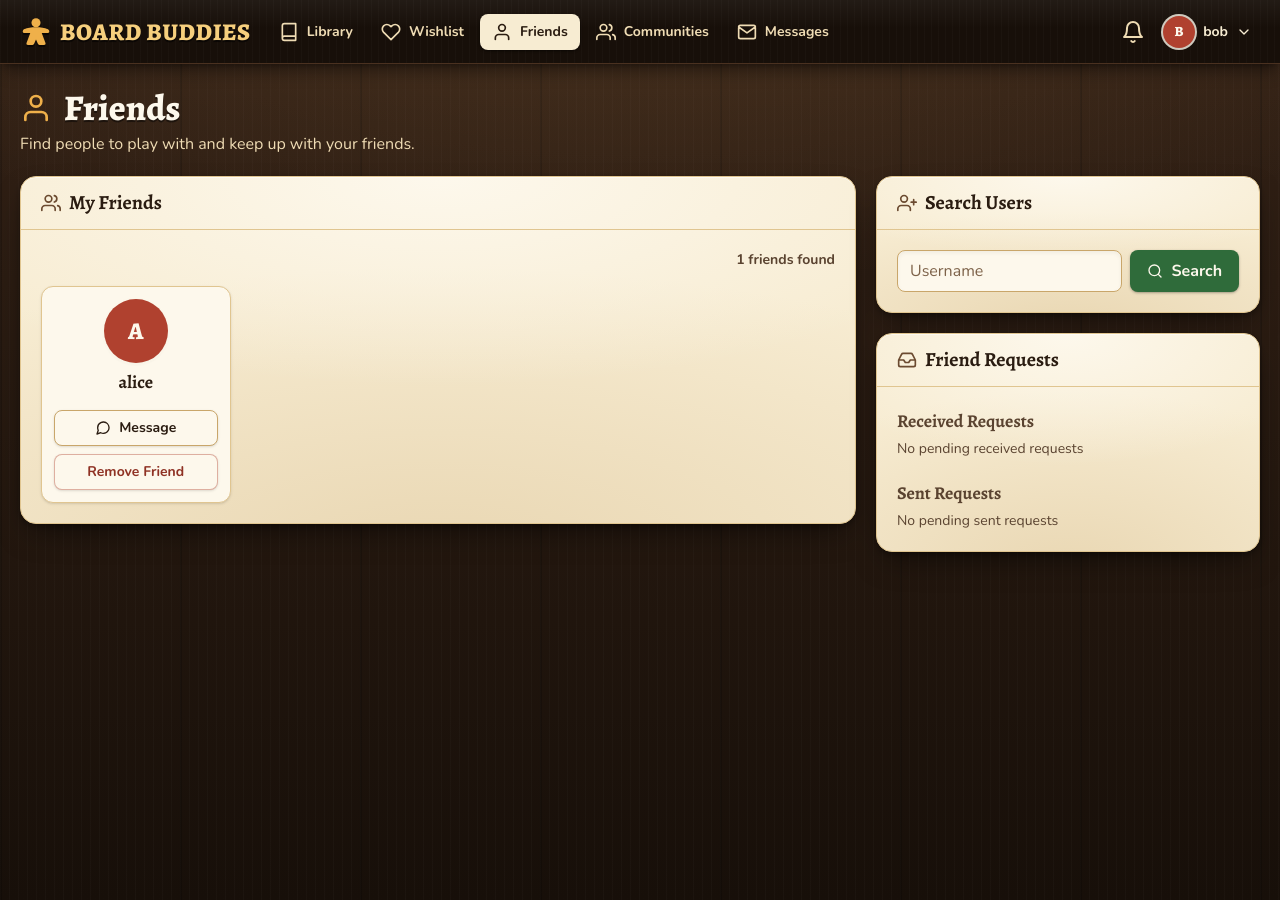
Scenario: Viewing a friend's library › shows the games a friend owns, with their pictures, after opening their profile
The width and height of the screenshot is (1280, 900).
Click the link "alice".
click(136, 382)  # box [118, 371, 153, 394]
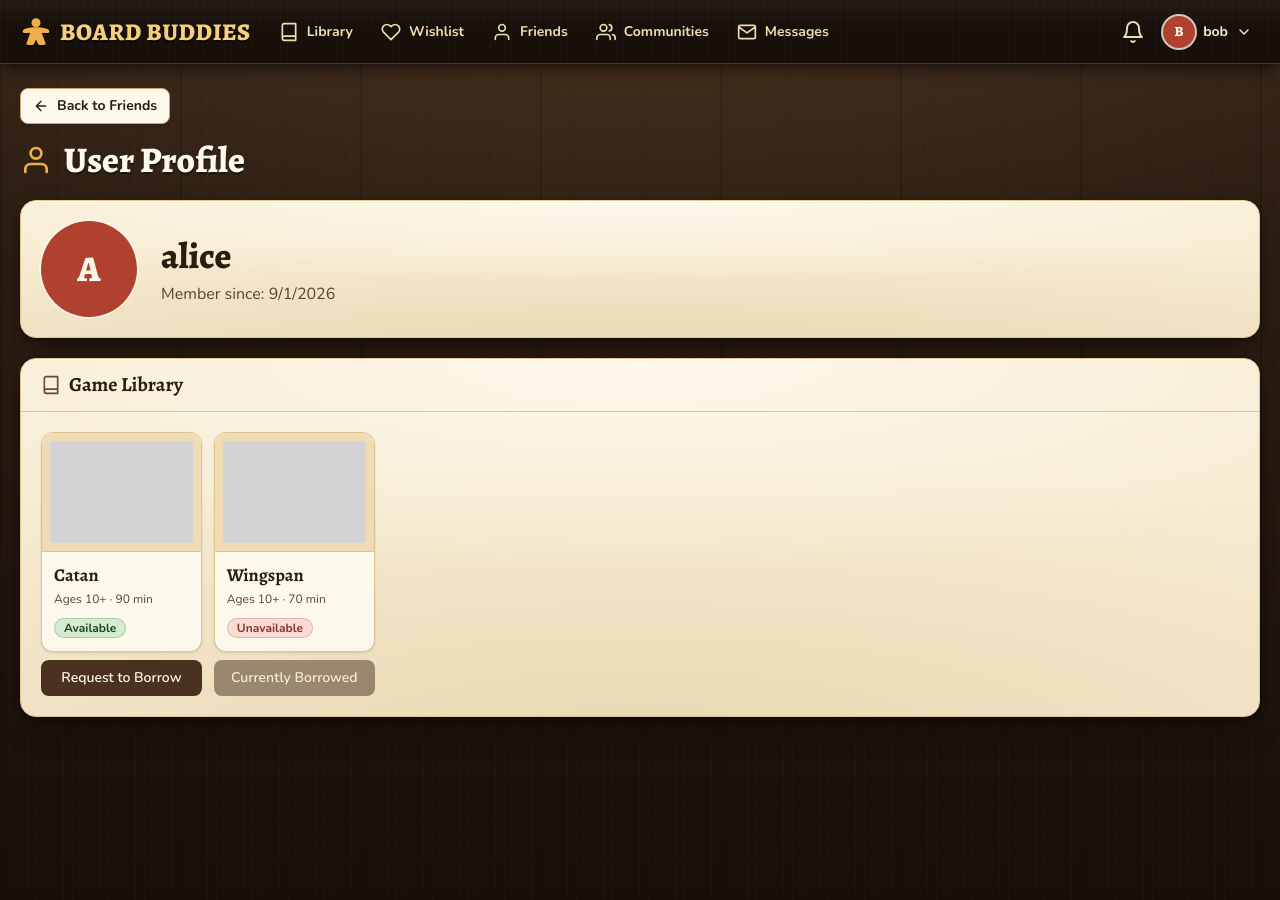
Check: the heading "alice" is shown, box [161, 230, 231, 280]
Check: the text "Ages 10+ · 90 min" is shown, box [54, 591, 153, 607]
Check: the text "Available" is shown, box [54, 618, 126, 638]
